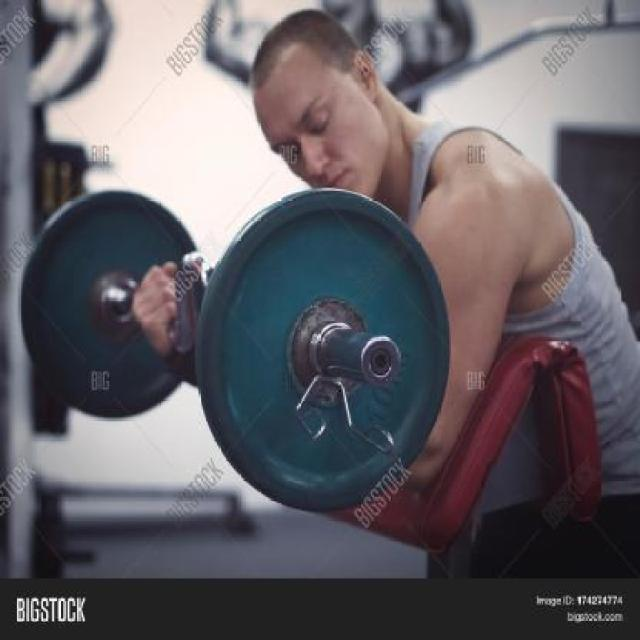barbell: (195, 186, 458, 517)
